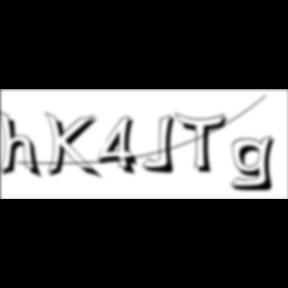4: (98, 115, 144, 179)
J: (142, 114, 182, 176)
K: (46, 110, 104, 182)
T: (175, 112, 233, 176)
g: (230, 134, 282, 194)
h: (0, 108, 46, 182)
